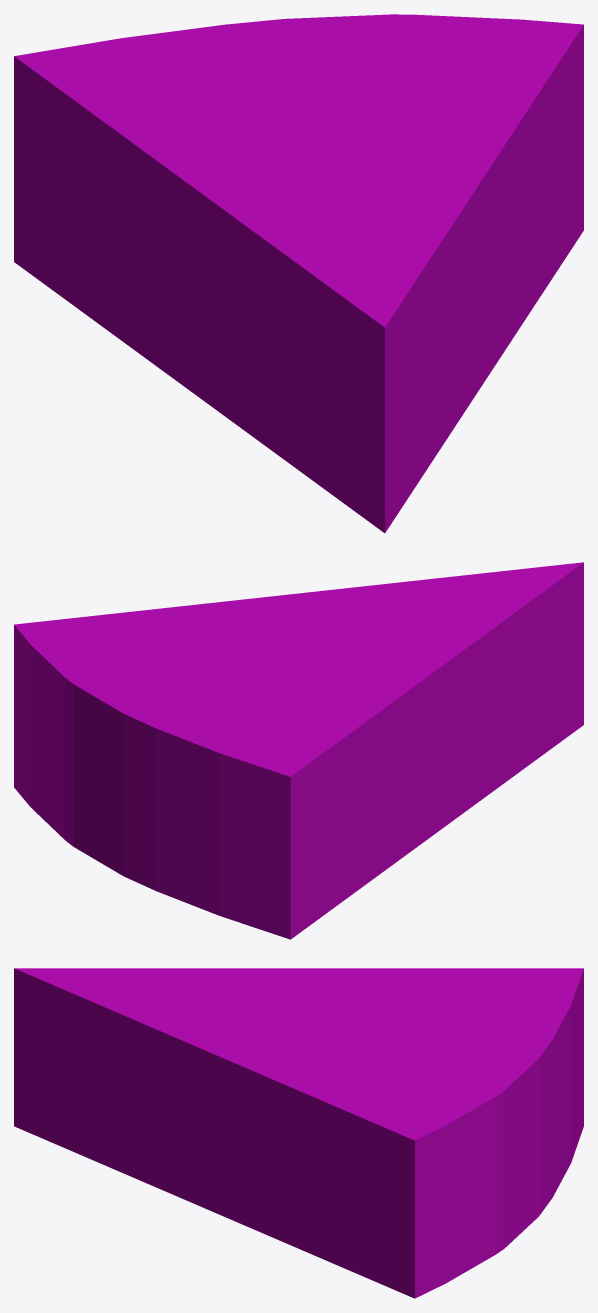
The model's file is pezzoTetris7.fbx.
3 views of the same model, one above another, from view 1: azimuth 30°, elevation 25°; view 2: azimuth 150°, elevation 25°; view 3: azimuth 270°, elevation 25° (orthographic). The views are drawn at different scales.
Visible parts, largest first — view 1: Cube.001; view 2: Cube.001; view 3: Cube.001.
Boxes of the visible parts, bbox=[...] form: Cube.001: bbox=[14, 14, 583, 533]; Cube.001: bbox=[14, 562, 583, 939]; Cube.001: bbox=[14, 968, 583, 1298].
Bounding box in the file's own units: 45.83 × 19.59 × 64.03.
